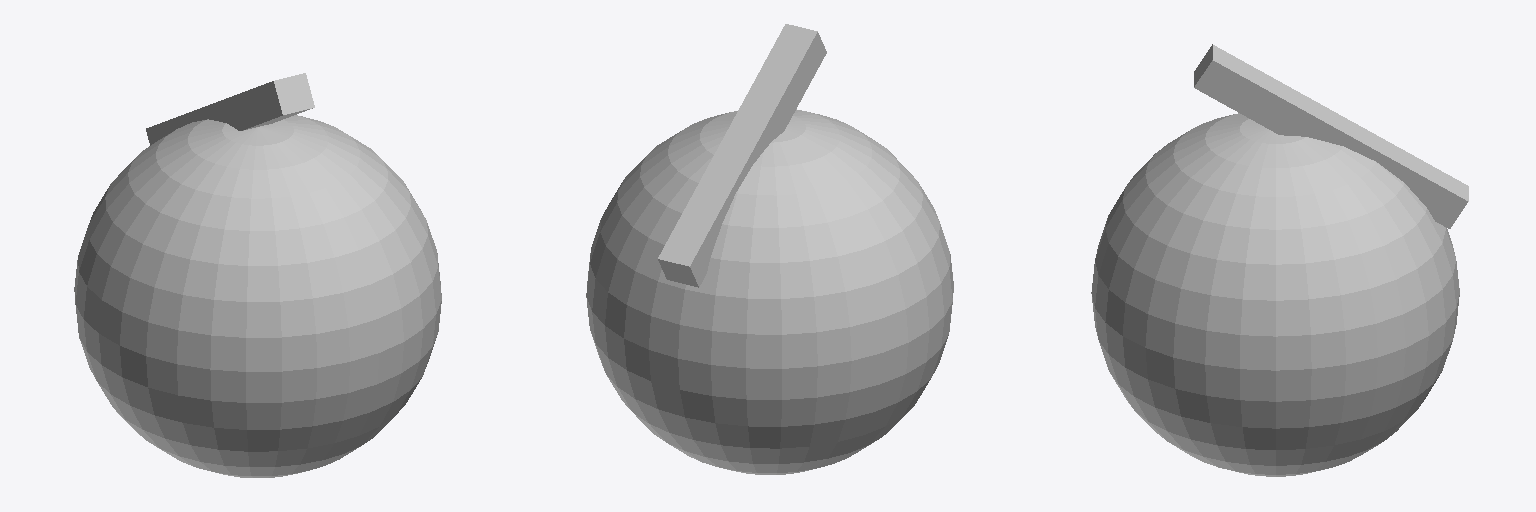
Rendered from enemy3.obj.
The picture shows the model from 3 angles: view 1: azimuth 30°, elevation 25°; view 2: azimuth 150°, elevation 25°; view 3: azimuth 270°, elevation 25°; orthographic projection.
Parts seen in each view (by area): view 1: 球, 立方体; view 2: 球, 立方体; view 3: 球, 立方体.
Part boxes in pixels (bbox=[...]): 球: bbox=[74, 115, 441, 477]; 立方体: bbox=[146, 73, 314, 145]; 球: bbox=[586, 109, 953, 474]; 立方体: bbox=[658, 24, 826, 287]; 球: bbox=[1091, 113, 1459, 476]; 立方体: bbox=[1194, 44, 1468, 228].
Bounding box in the file's own units: 2 × 2.44 × 2.05.